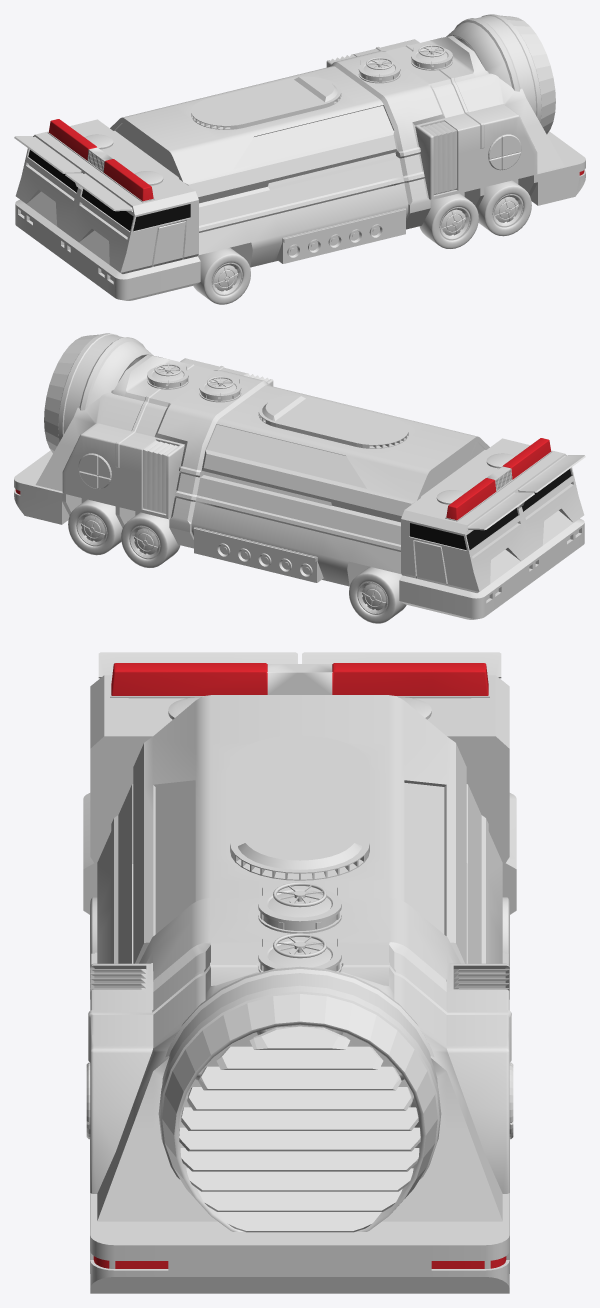
File: CoolantTruck.dae
3 views of the same model, one above another, from view 1: azimuth 30°, elevation 25°; view 2: azimuth 150°, elevation 25°; view 3: azimuth 270°, elevation 25° (orthographic). The views are drawn at different scales.
Visible parts, largest first — view 1: CoolantTruck; view 2: CoolantTruck; view 3: CoolantTruck.
Part boxes in pixels (bbox=[...]): CoolantTruck: bbox=[14, 14, 585, 304]; CoolantTruck: bbox=[14, 333, 585, 623]; CoolantTruck: bbox=[83, 652, 516, 1293].
Bounding box in the file's own units: 15.67 × 6.2 × 5.29.
